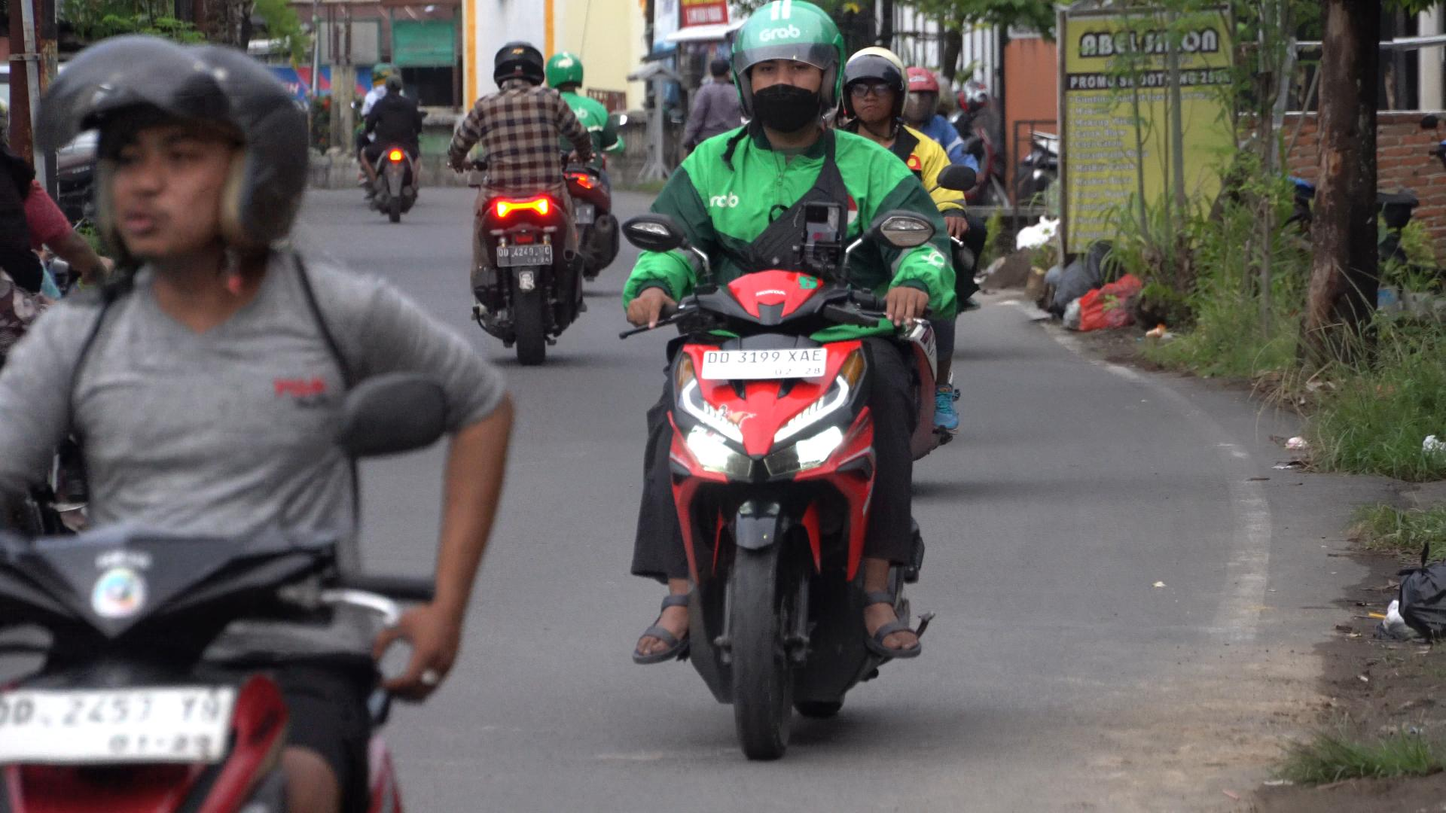number-plate: (705, 348, 825, 380)
